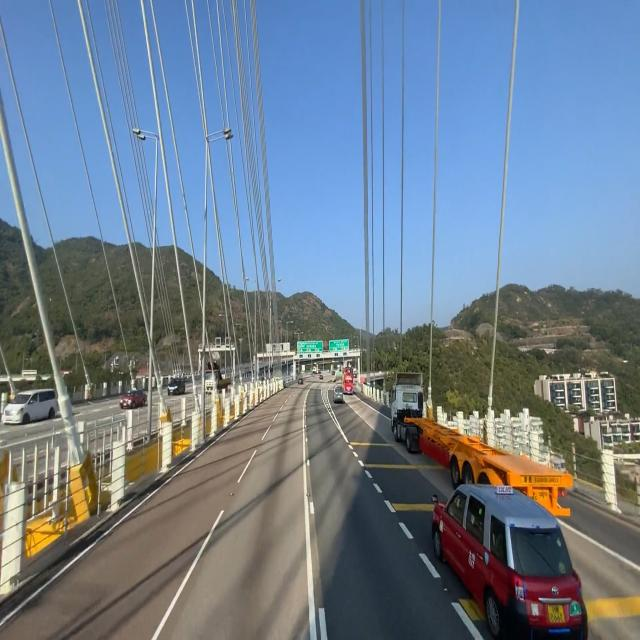Car: (387, 369, 573, 518), (430, 478, 587, 640)
